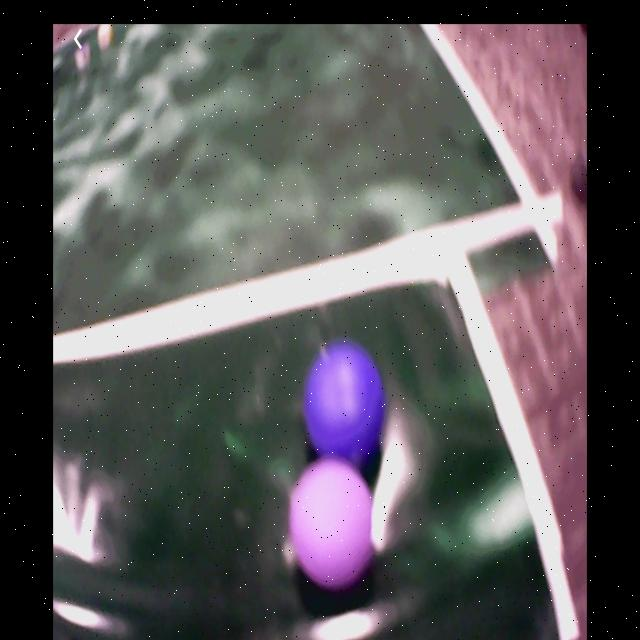ball: (290, 456, 374, 584), (305, 344, 381, 460)
